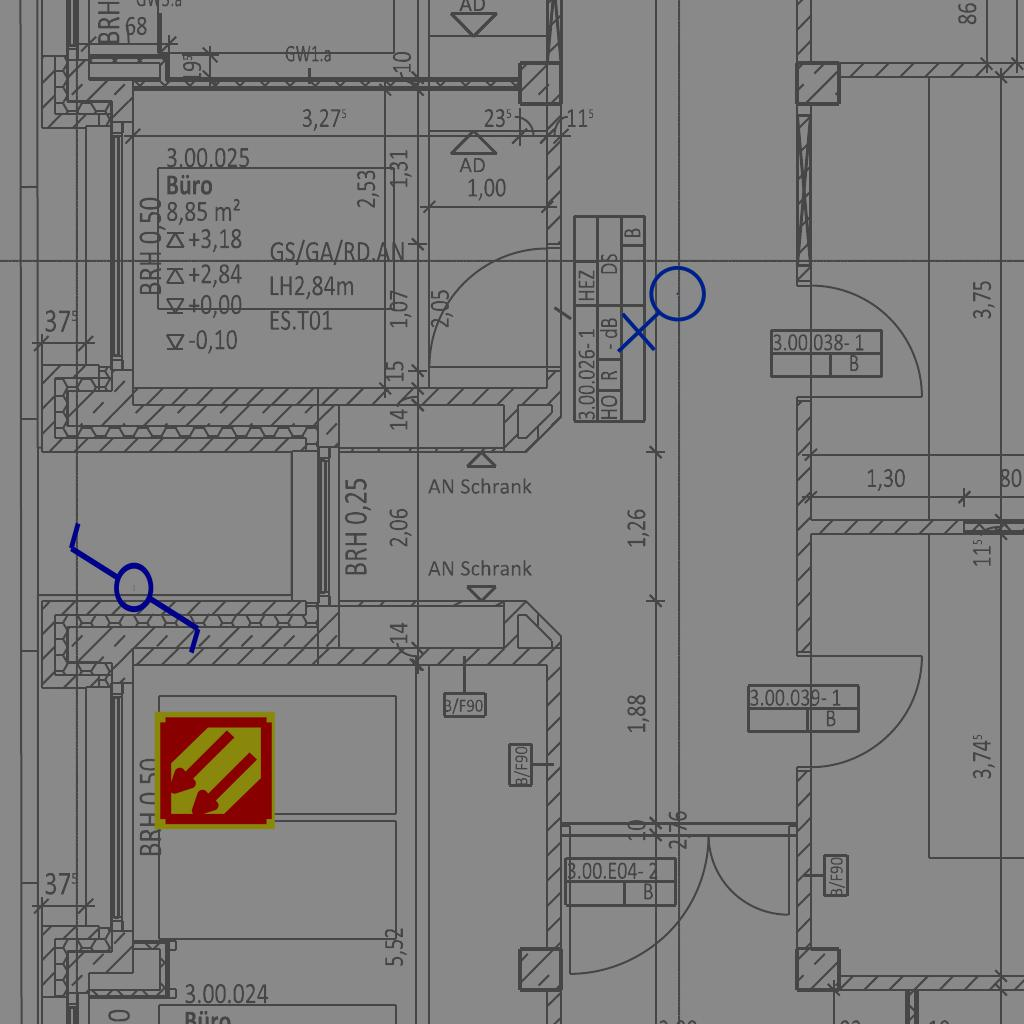ASR_Ansaugrauchmelder: (152, 708, 277, 833)
Elektroanschluss_allgemein_230V_Geraeteanschlussdose_230V: (616, 264, 715, 358)
Wechselschalter: (64, 501, 208, 658)
